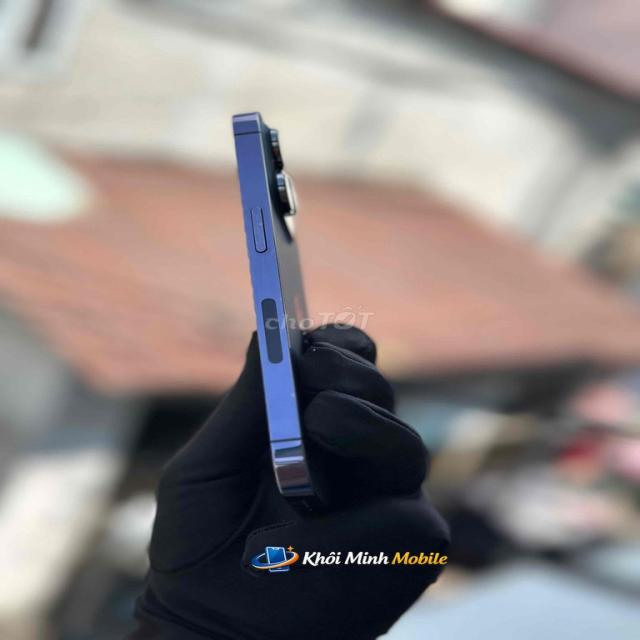gen_14: (212, 95, 340, 499)
